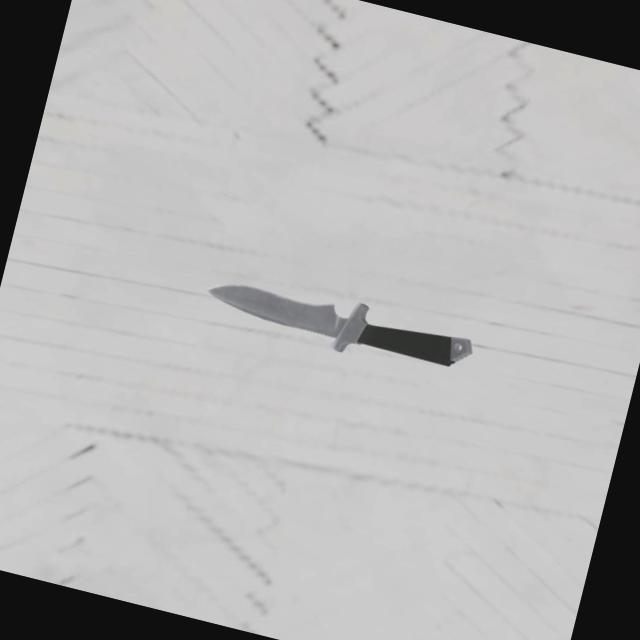knife: (359, 316, 456, 366)
